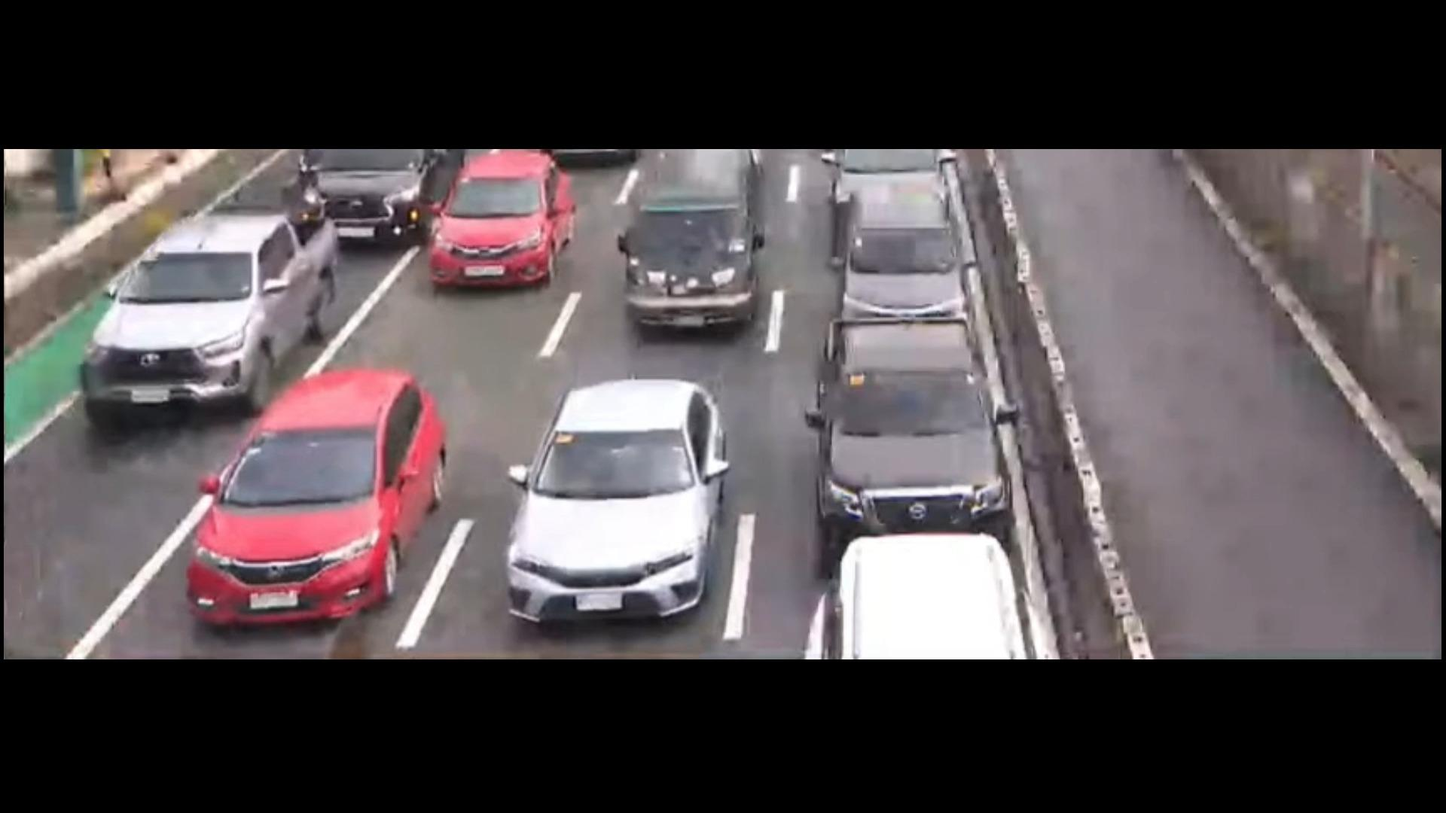Pickup: (42, 200, 343, 431), (795, 301, 1028, 551)
SUV: (825, 183, 989, 327)
Sedan: (176, 364, 447, 645), (492, 379, 772, 640), (429, 145, 592, 310)
Van: (596, 142, 780, 360)
